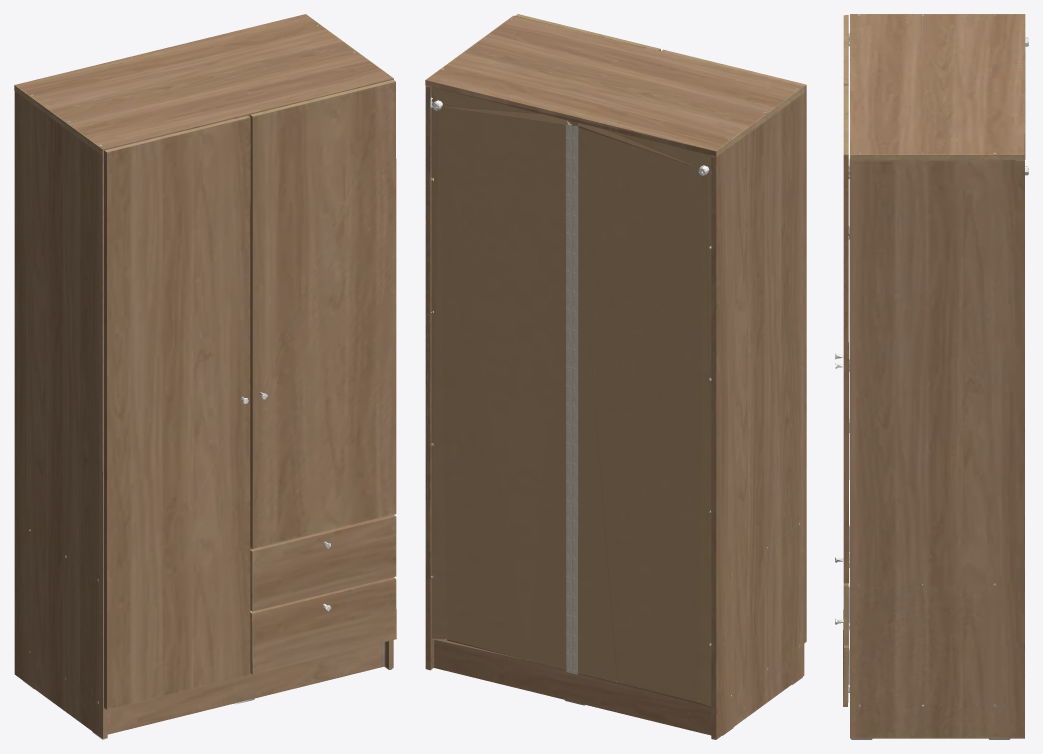
The picture shows the model from 3 angles, left to right: view 1: azimuth 30°, elevation 25°; view 2: azimuth 150°, elevation 25°; view 3: azimuth 270°, elevation 25°; orthographic projection.
Visible parts, largest first — view 1: model_NODE_ID_d07e58d3-69b5-4bef-9f7d-e5205a9c0398; view 2: model_NODE_ID_d07e58d3-69b5-4bef-9f7d-e5205a9c0398, model_NODE_ID_d07e58d3-69b5-4bef-9f7d-e5205a9c0398_1; view 3: model_NODE_ID_d07e58d3-69b5-4bef-9f7d-e5205a9c0398.
Boxes of the visible parts, x1,y1,x2,y2 form: model_NODE_ID_d07e58d3-69b5-4bef-9f7d-e5205a9c0398: [14, 14, 396, 739]; model_NODE_ID_d07e58d3-69b5-4bef-9f7d-e5205a9c0398: [425, 14, 806, 739]; model_NODE_ID_d07e58d3-69b5-4bef-9f7d-e5205a9c0398_1: [565, 124, 578, 674]; model_NODE_ID_d07e58d3-69b5-4bef-9f7d-e5205a9c0398: [835, 14, 1028, 739].
Size of the model in its own units: 0.9801 by 1.9 by 0.5699.
Materials: 2 (2 with a texture image).
